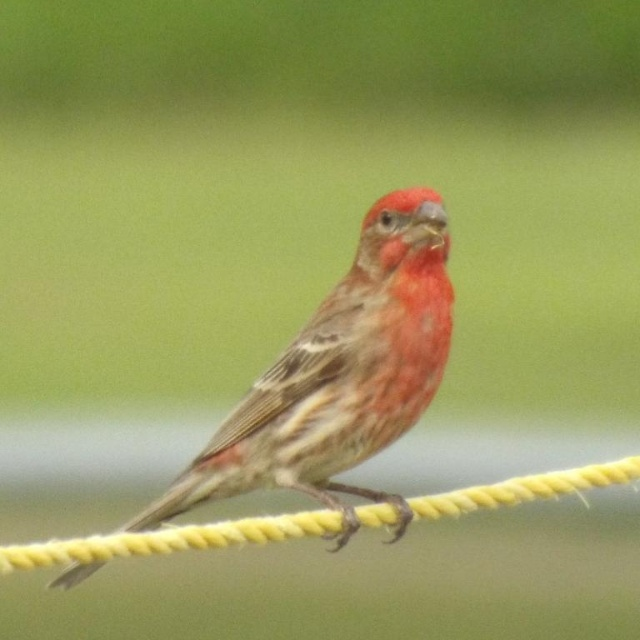Canary: (45, 183, 458, 595)
